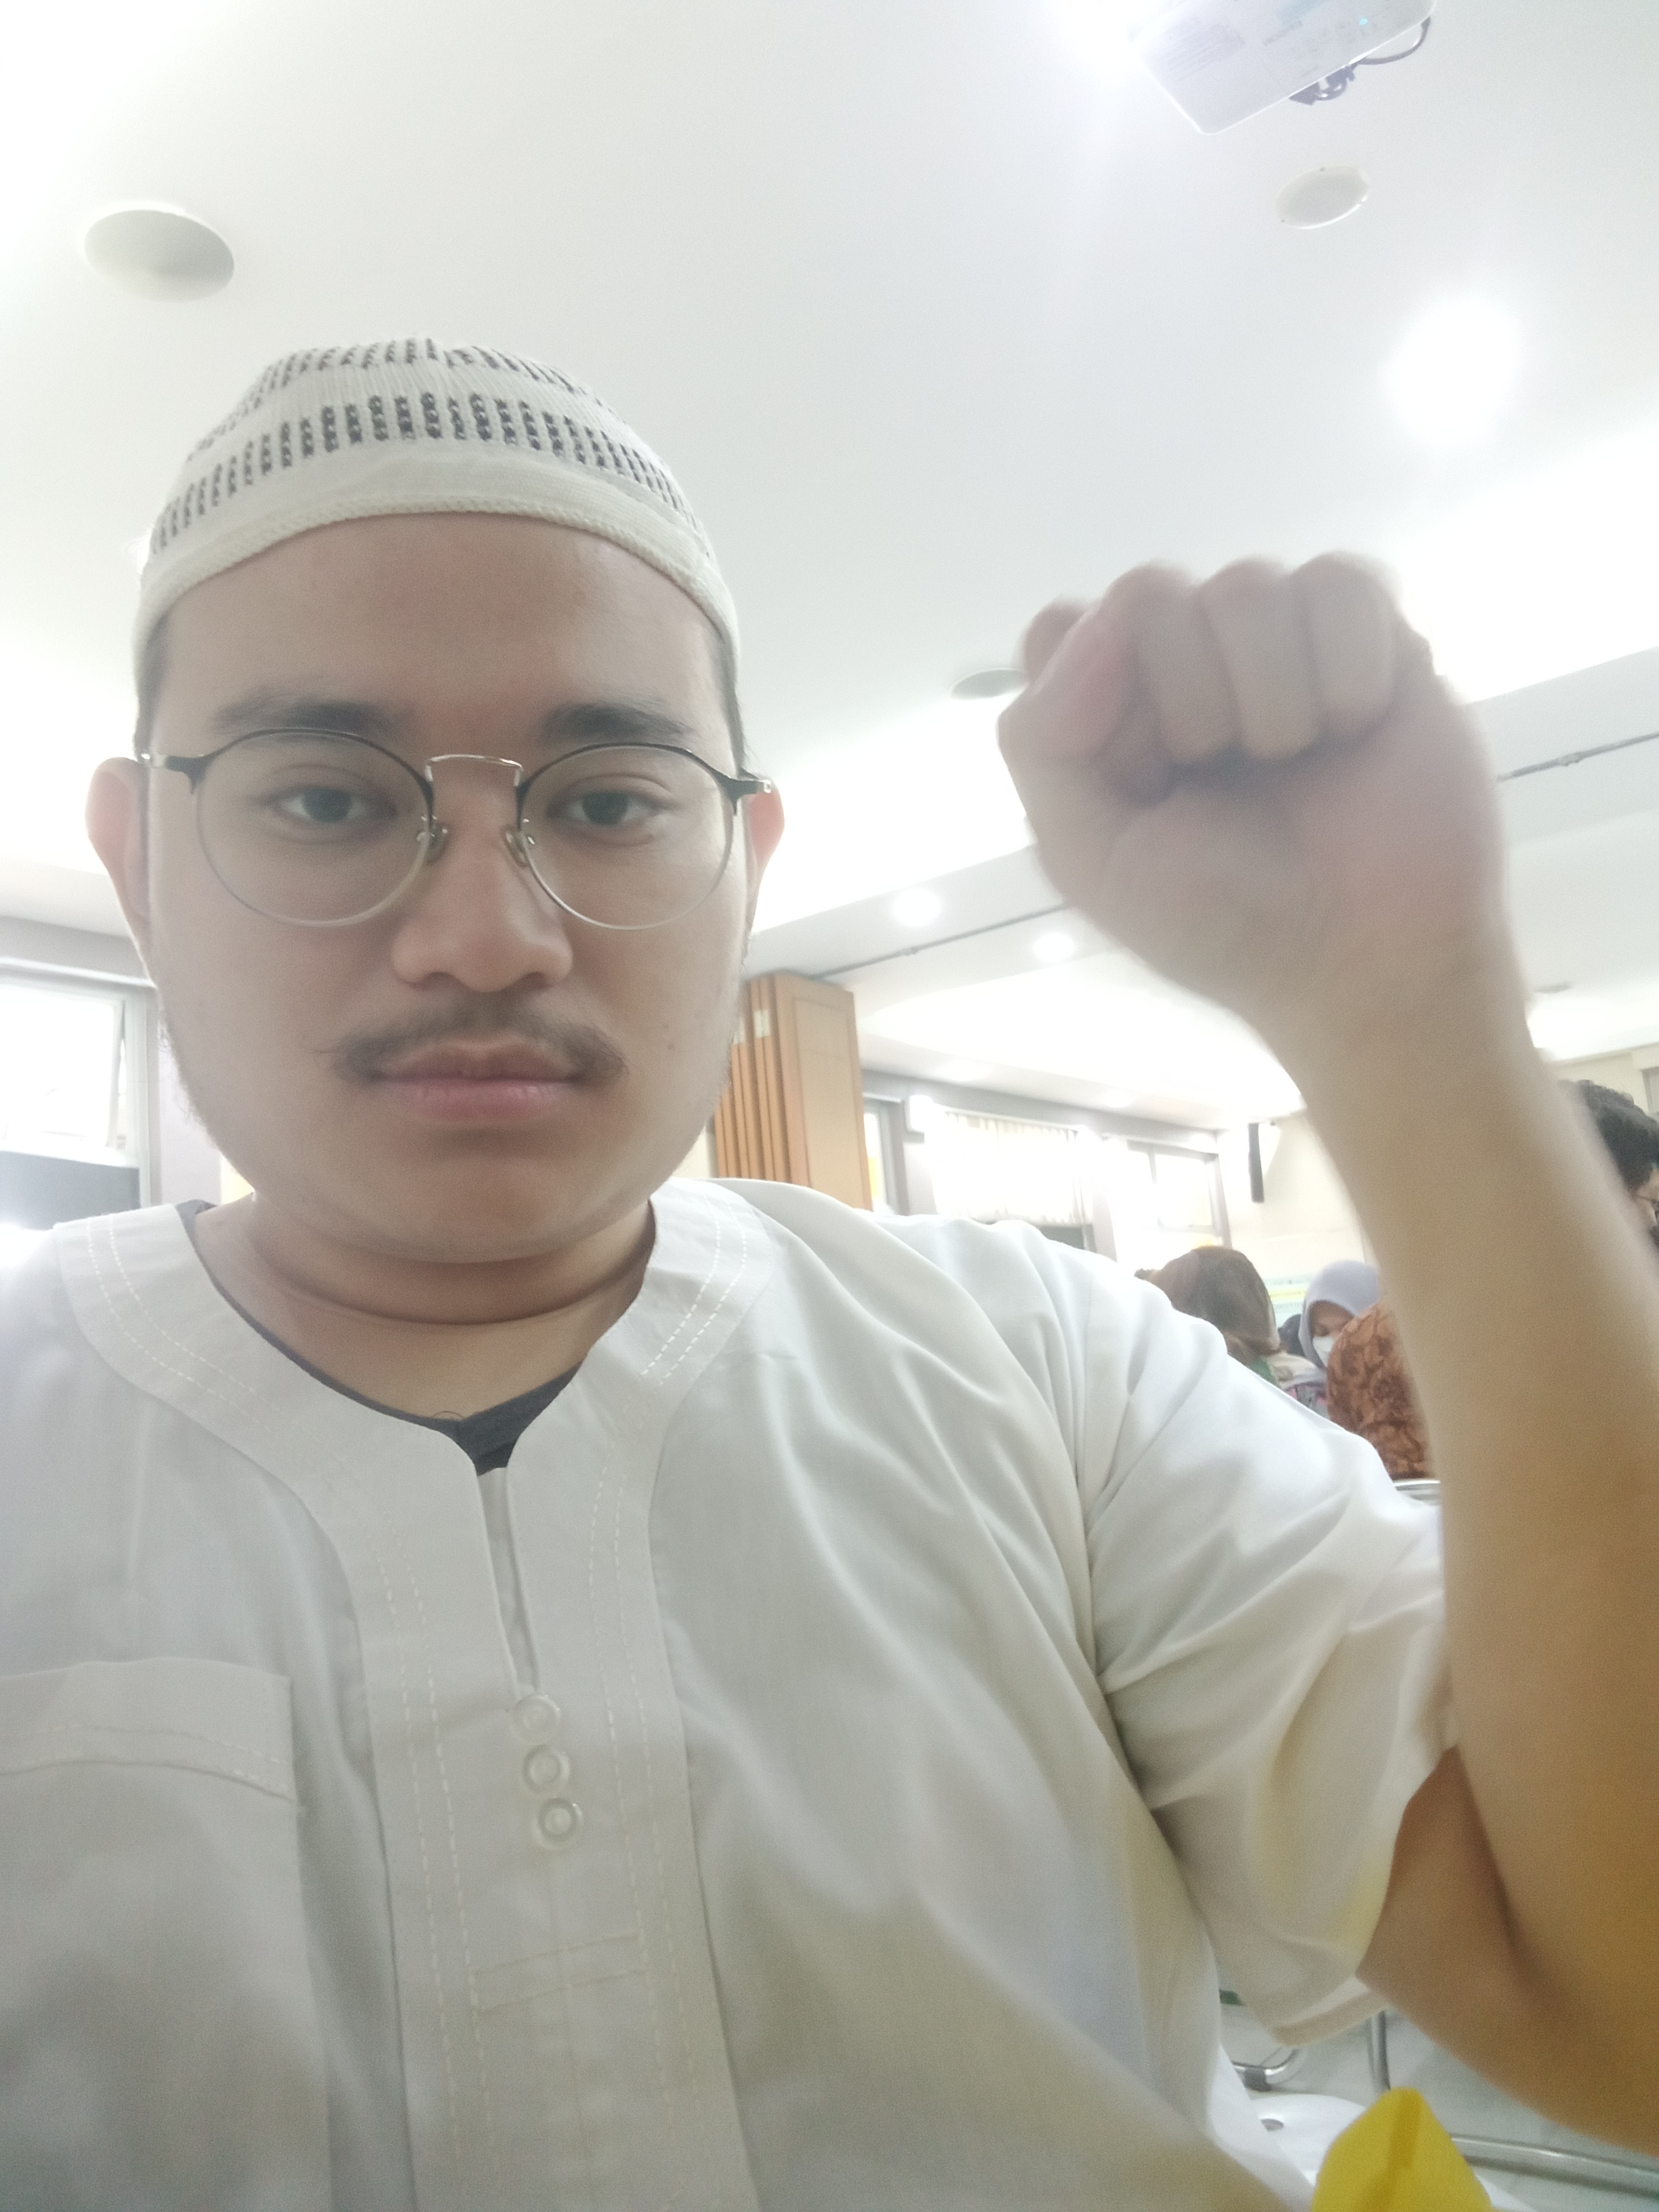A: (939, 505, 1582, 1043)
